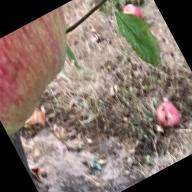Apples: (0, 5, 104, 136), (152, 98, 184, 132), (121, 2, 145, 26)
